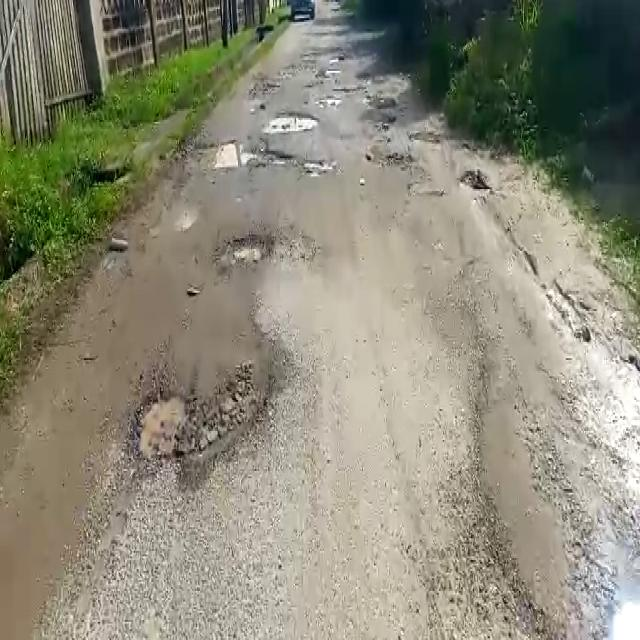Pothole: (127, 361, 284, 476), (190, 140, 296, 170), (215, 229, 276, 268), (264, 111, 320, 135), (302, 156, 336, 174)
